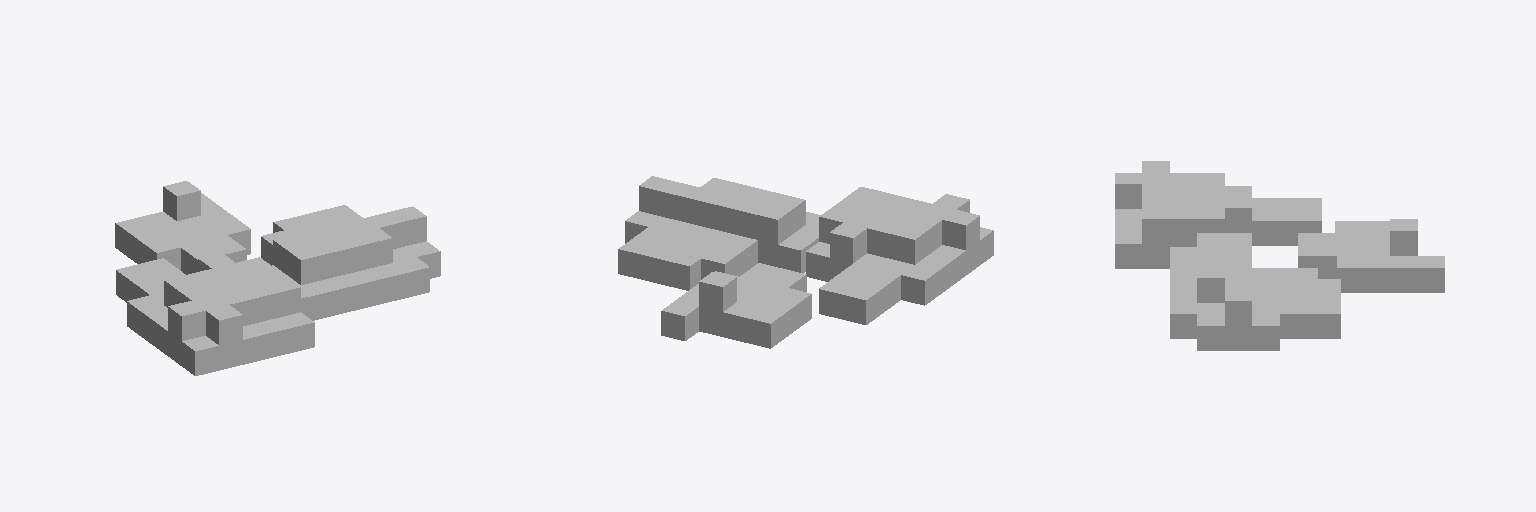
Rendered from rock_piles_medium_1.obj.
The picture shows the model from 3 angles: view 1: azimuth 30°, elevation 25°; view 2: azimuth 150°, elevation 25°; view 3: azimuth 270°, elevation 25°; orthographic projection.
Visible parts, largest first — view 1: Sphere.004_Sphere.007, Sphere.000_Sphere.004; view 2: Sphere.004_Sphere.007, Sphere.000_Sphere.004; view 3: Sphere.004_Sphere.007, Sphere.000_Sphere.004.
Boxes of the visible parts, x1=… form: Sphere.004_Sphere.007: x1=116, y1=181, x2=415, y2=375; Sphere.000_Sphere.004: x1=115, y1=200, x2=440, y2=365; Sphere.004_Sphere.007: x1=618, y1=178, x2=993, y2=340; Sphere.000_Sphere.004: x1=625, y1=176, x2=979, y2=348; Sphere.004_Sphere.007: x1=1115, y1=161, x2=1444, y2=350; Sphere.000_Sphere.004: x1=1115, y1=173, x2=1417, y2=350.
Size of the model in its own units: 0.75 by 0.125 by 0.75.